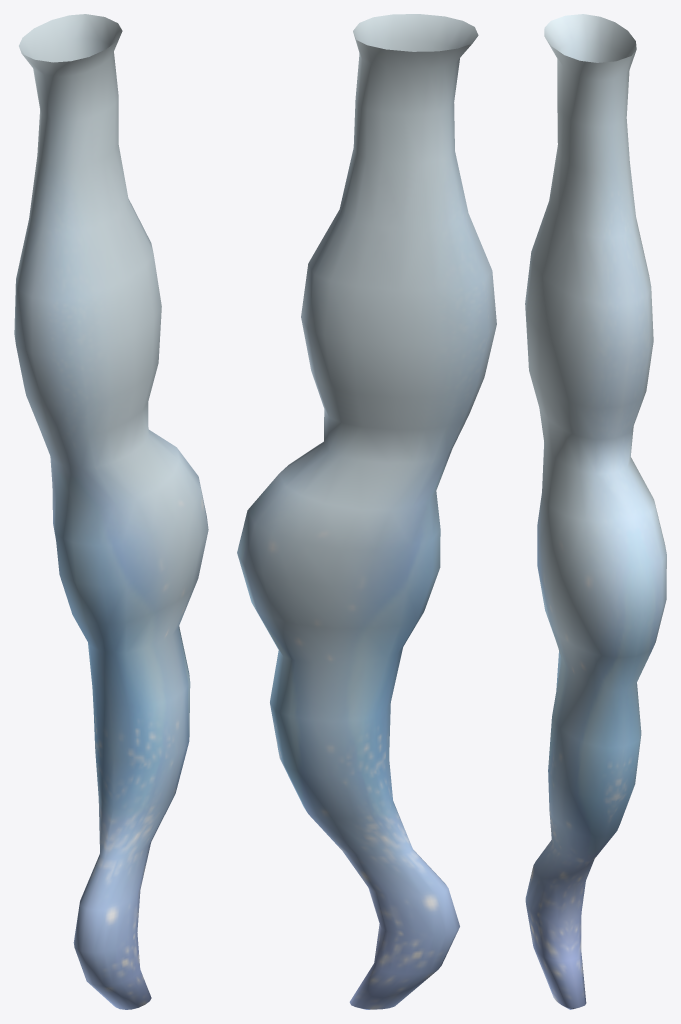
3 renders of one model, left to right at view 1: azimuth 30°, elevation 25°; view 2: azimuth 150°, elevation 25°; view 3: azimuth 270°, elevation 25°, orthographic. The views are drawn at different scales.
Visible parts, largest first — view 1: 01; view 2: 01; view 3: 01.
Part boxes in pixels (x1,y1,x2,y2): 01: (14,14,208,1009); 01: (237,14,496,1009); 01: (525,14,666,1009).
Bounding box in the file's own units: 10.42 × 45.74 × 6.23.
Materials: 1 (1 with a texture image).
